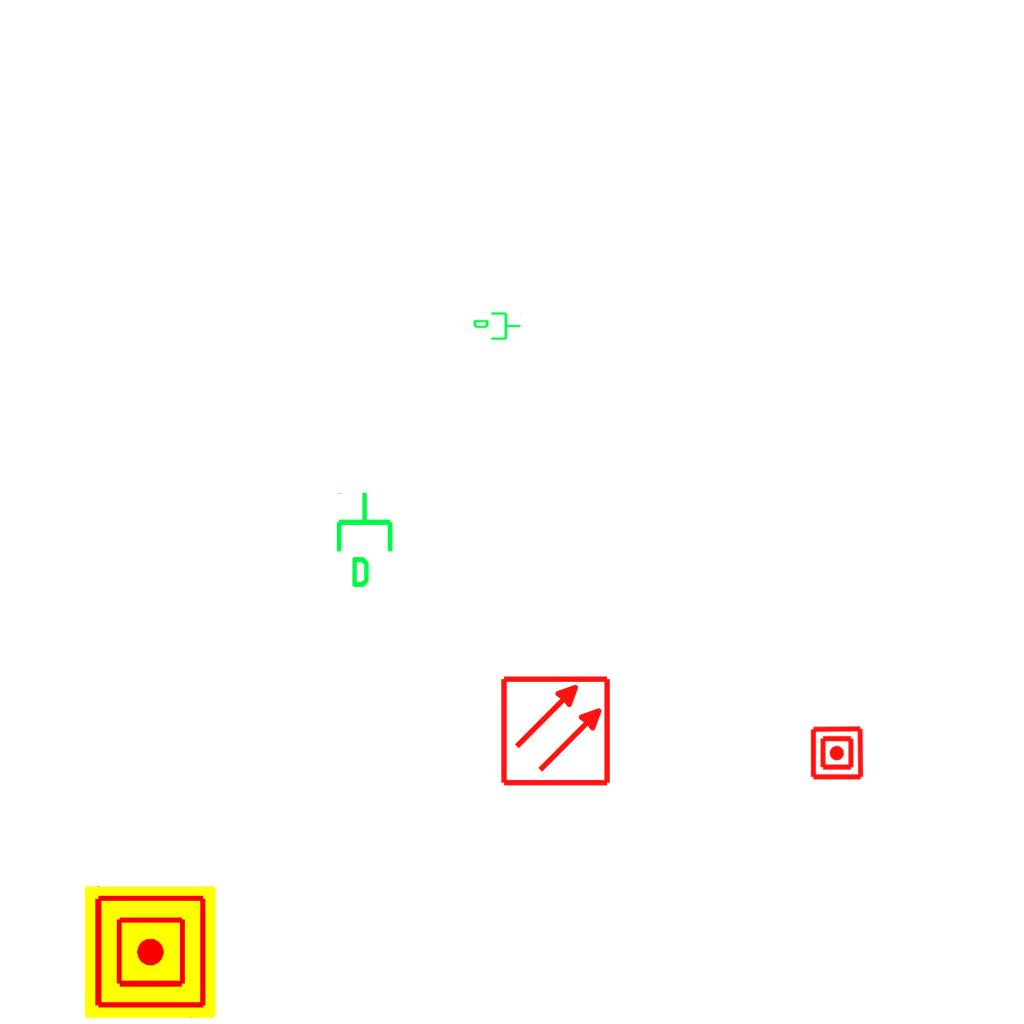Datenanschluss_einfach: (332, 490, 401, 590), (472, 310, 522, 344)
NAM-Nichtautomatischer_Melder: (84, 886, 216, 1018), (809, 725, 865, 781)
RMO_Rauchmelder_optischer: (499, 674, 612, 787)
